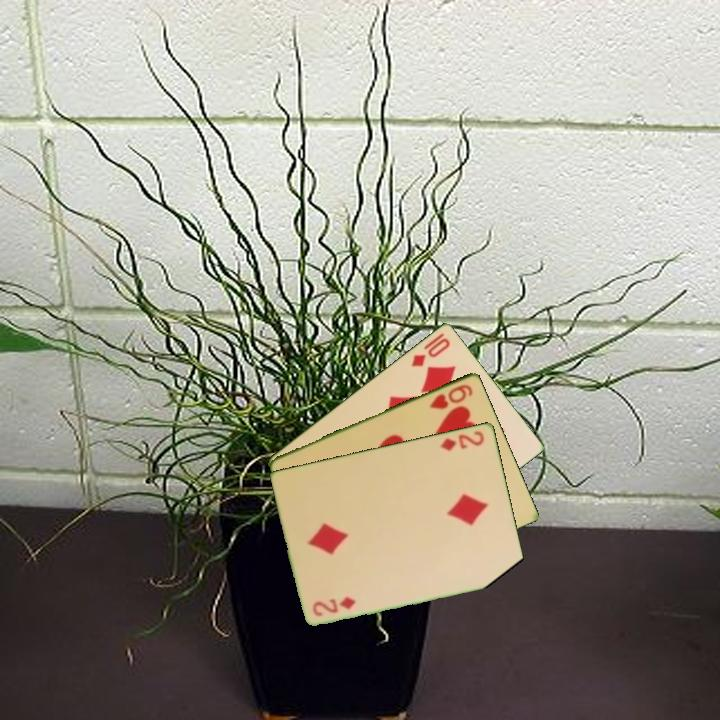10d: (407, 329, 453, 369)
2d: (437, 427, 487, 454), (309, 593, 359, 619)
6h: (426, 380, 476, 412)
